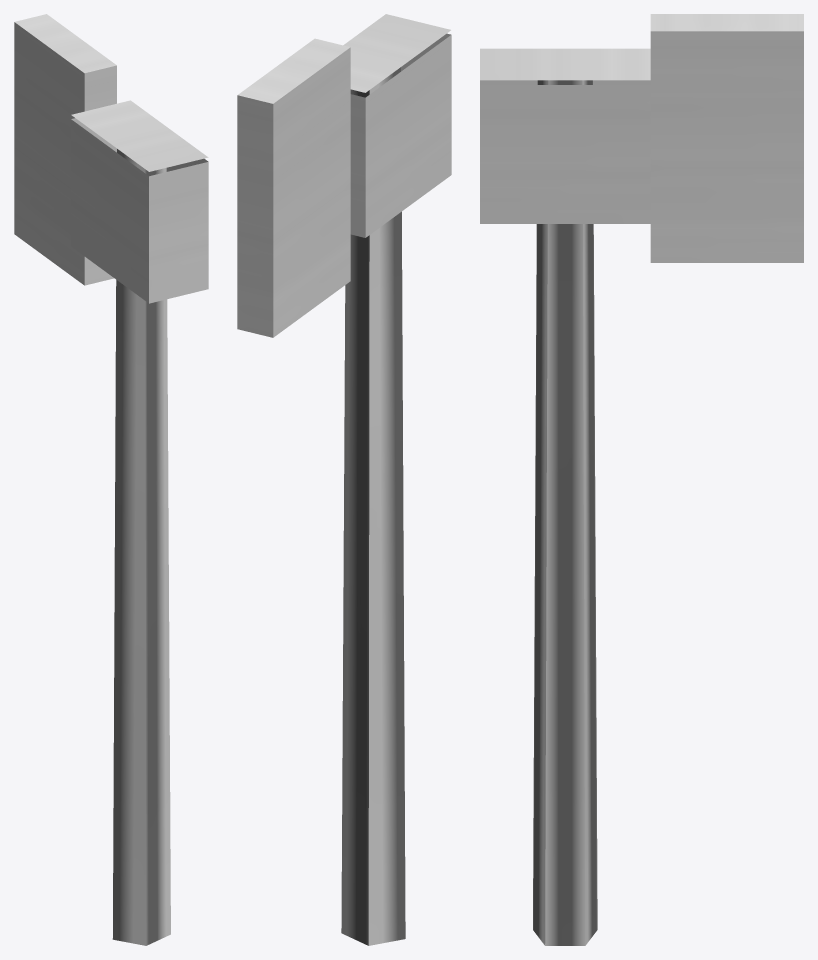
Rendered from tool_axe.obj.
3 renders of one model, left to right at view 1: azimuth 30°, elevation 25°; view 2: azimuth 150°, elevation 25°; view 3: azimuth 270°, elevation 25°, orthographic. The views are drawn at different scales.
Visible parts, largest first — view 1: tool_axe; view 2: tool_axe; view 3: tool_axe.
Boxes of the visible parts, <box> form: tool_axe: <box>14,14,208,945</box>; tool_axe: <box>237,14,451,945</box>; tool_axe: <box>480,14,803,945</box>.
Size of the model in its own units: 0.044 by 0.59 by 0.19.
